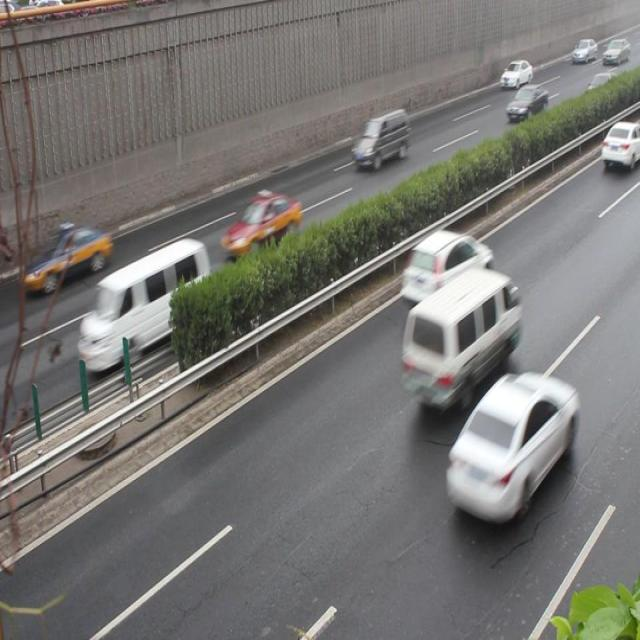car: (444, 368, 575, 516), (400, 228, 490, 302), (21, 219, 109, 288), (220, 188, 299, 252), (576, 69, 623, 114), (600, 119, 640, 170), (504, 82, 546, 121)
